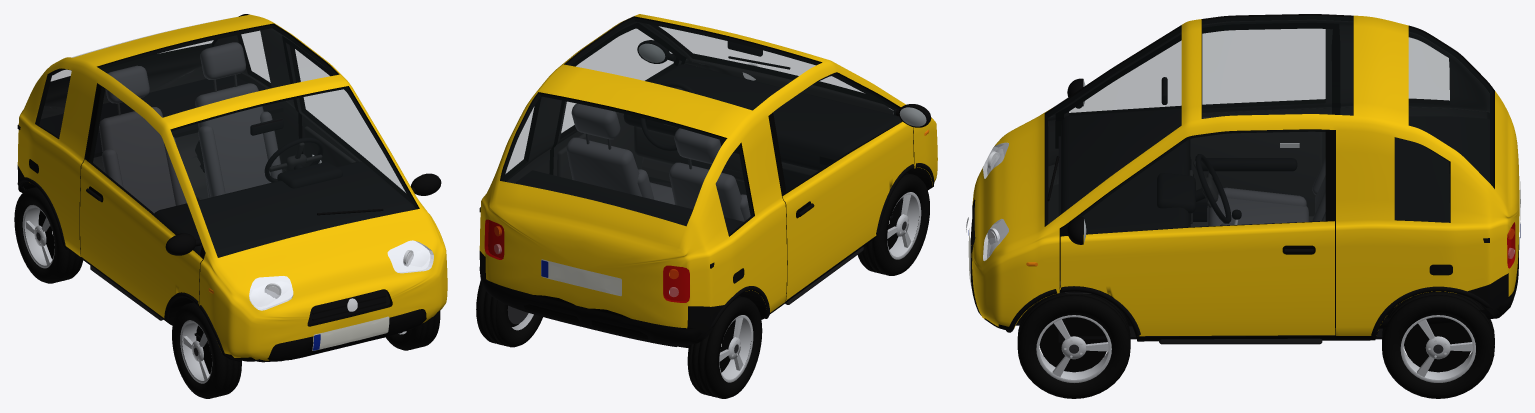
Rendered from smart.glb.
3 views of the same model, side by side, from view 1: azimuth 30°, elevation 25°; view 2: azimuth 150°, elevation 25°; view 3: azimuth 270°, elevation 25° (orthographic). The views are drawn at different scales.
Visible parts, largest first — view 1: body, interior, door_fr, decals, wheel_fr, wheel_rr, door_fl, details, door_fl_details, door_fr_details, steering, wheel_fl (+1 smaller); view 2: body, interior, door_fr, decals, wheel_rr, wheel_fr, wheel_rl, door_fl_details, door_fr_details, seals, details, door_fl (+1 smaller); view 3: body, door_fl, interior, wheel_fl, wheel_rl, door_fr_details, seals, door_fr, decals, door_fl_details, details, steering.
Boxes of the visible parts, left/top/right/bottom form: body: left=17, top=14, right=447, bottom=361; interior: left=17, top=42, right=414, bottom=352; door_fr: left=80, top=83, right=205, bottom=317; decals: left=23, top=159, right=433, bottom=362; wheel_fr: left=172, top=302, right=241, bottom=398; wheel_rr: left=14, top=187, right=83, bottom=283; door_fl: left=286, top=43, right=415, bottom=209; details: left=17, top=177, right=413, bottom=361; door_fl_details: left=304, top=126, right=441, bottom=195; door_fr_details: left=86, top=188, right=201, bottom=320; steering: left=264, top=137, right=323, bottom=182; wheel_fl: left=386, top=311, right=440, bottom=350; body: left=479, top=14, right=937, bottom=348; interior: left=479, top=41, right=902, bottom=268; door_fr: left=768, top=73, right=913, bottom=300; decals: left=481, top=129, right=929, bottom=346; wheel_rr: left=687, top=296, right=762, bottom=398; wheel_fr: left=858, top=173, right=929, bottom=275; wheel_rl: left=476, top=280, right=542, bottom=347; door_fl_details: left=557, top=40, right=676, bottom=179; door_fr_details: left=785, top=104, right=931, bottom=304; seals: left=549, top=22, right=894, bottom=174; details: left=479, top=56, right=934, bottom=340; door_fl: left=551, top=57, right=681, bottom=175; body: left=971, top=14, right=1519, bottom=341; door_fl: left=1059, top=129, right=1335, bottom=336; interior: left=1058, top=77, right=1489, bottom=342; wheel_fl: left=1017, top=292, right=1130, bottom=398; wheel_rl: left=1382, top=291, right=1494, bottom=398; door_fr_details: left=1067, top=78, right=1322, bottom=221; seals: left=1055, top=22, right=1340, bottom=331; door_fr: left=1064, top=29, right=1332, bottom=163; decals: left=966, top=143, right=1520, bottom=328; door_fl_details: left=1062, top=217, right=1322, bottom=344; details: left=973, top=151, right=1514, bottom=340; steering: left=1193, top=154, right=1231, bottom=223.
Bounding box in the file's own units: 1.88 × 1.57 × 2.85.
